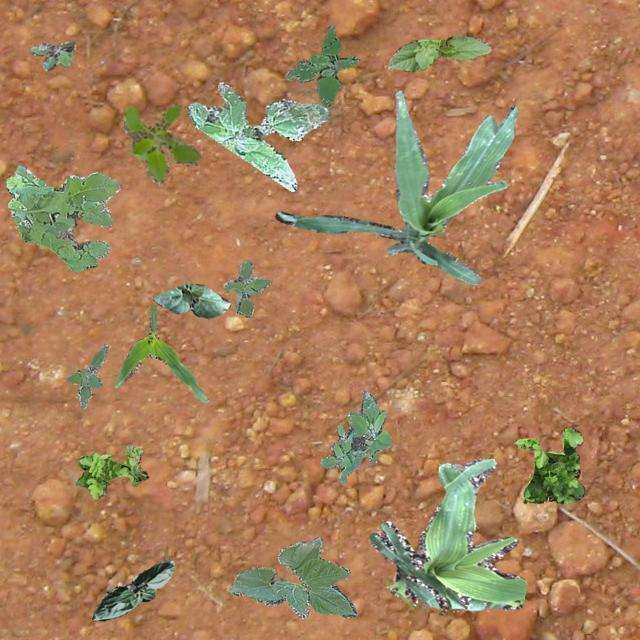crop: (274, 90, 516, 284), (368, 456, 526, 610), (228, 536, 356, 618), (112, 303, 208, 402), (90, 558, 174, 620), (386, 34, 491, 70), (153, 282, 230, 318)
weed: (185, 81, 328, 190), (5, 164, 120, 270), (318, 388, 391, 482), (122, 104, 200, 185), (286, 24, 358, 106), (514, 426, 584, 504), (74, 444, 148, 496), (222, 260, 270, 316), (65, 343, 106, 408), (30, 40, 74, 70)
